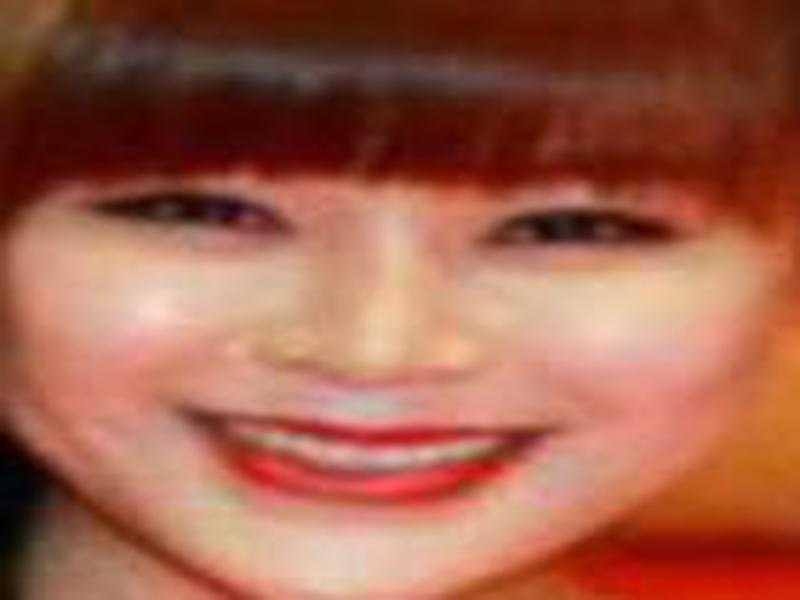without_mask: (4, 136, 766, 600)
